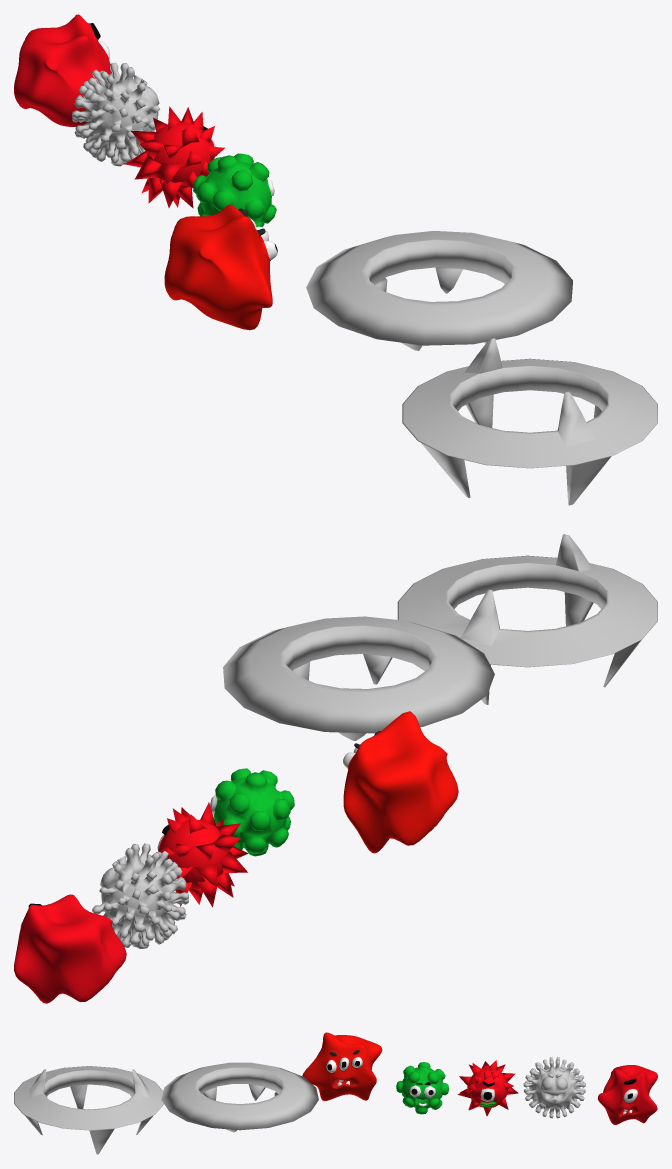
Rendered from little_001.fbx.
3 views of the same model, one above another, from view 1: azimuth 30°, elevation 25°; view 2: azimuth 150°, elevation 25°; view 3: azimuth 270°, elevation 25° (orthographic). The views are drawn at different scales.
Visible parts, largest first — view 1: Torus_01, Torus, 01_red_3eyes, 05_red_1eye, 04_corona, 03_red_1eye, 02_green; view 2: Torus, Torus_01, 01_red_3eyes, 05_red_1eye, 04_corona, 03_red_1eye, 02_green; view 3: Torus, Torus_01, 01_red_3eyes, 04_corona, 05_red_1eye, 03_red_1eye, 02_green.
Part boxes in pixels (<box>): Torus_01: <box>402,338,657,505</box>; Torus: <box>306,231,572,350</box>; 01_red_3eyes: <box>164,204,277,330</box>; 05_red_1eye: <box>14,14,111,126</box>; 04_corona: <box>72,62,160,166</box>; 03_red_1eye: <box>124,106,224,208</box>; 02_green: <box>193,153,276,226</box>; Torus: <box>223,616,494,740</box>; Torus_01: <box>397,534,657,704</box>; 01_red_3eyes: <box>343,711,458,853</box>; 05_red_1eye: <box>14,894,126,1003</box>; 04_corona: <box>92,843,188,948</box>; 03_red_1eye: <box>157,802,248,907</box>; 02_green: <box>210,768,294,856</box>; Torus: <box>161,1062,318,1132</box>; Torus_01: <box>14,1066,163,1154</box>; 01_red_3eyes: <box>302,1032,382,1100</box>; 04_corona: <box>523,1057,585,1118</box>; 05_red_1eye: <box>597,1065,657,1124</box>; 03_red_1eye: <box>457,1060,518,1116</box>; 02_green: <box>396,1062,448,1114</box>.
Size of the model in its own units: 390 by 166 by 1254.
